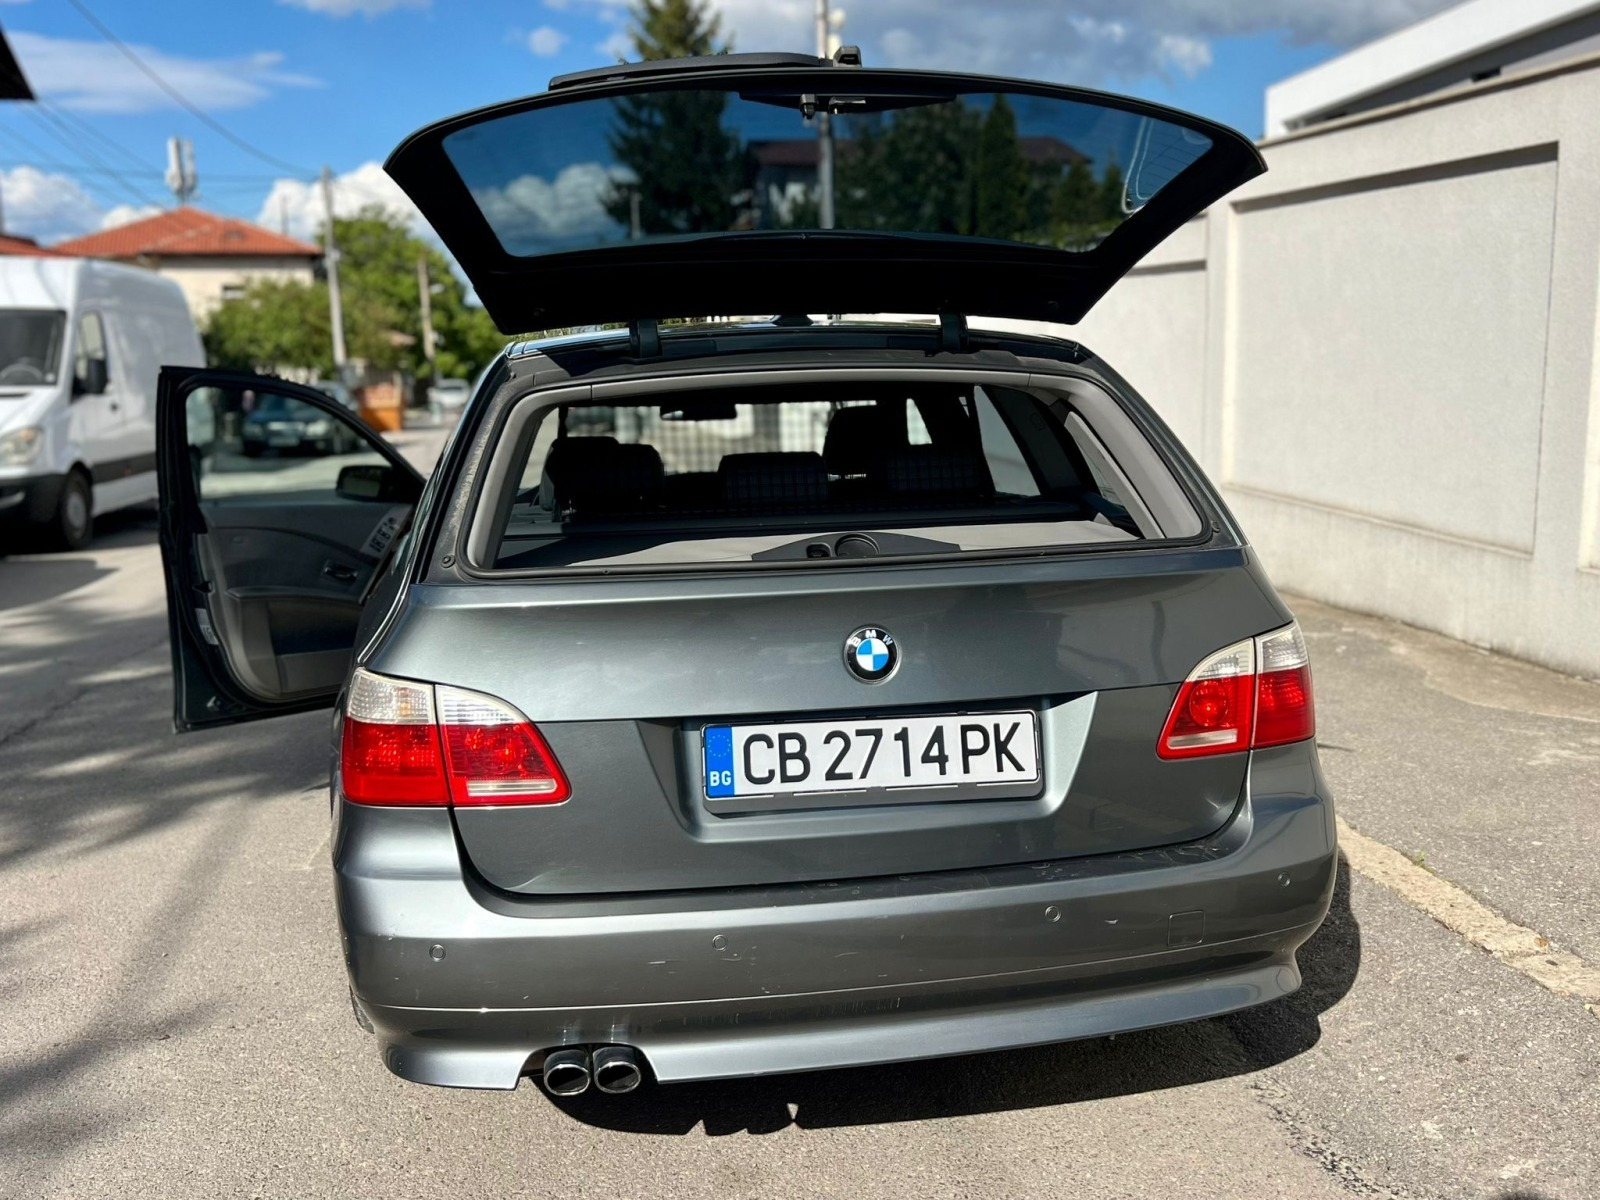registration_plate: (704, 710, 1048, 814)
